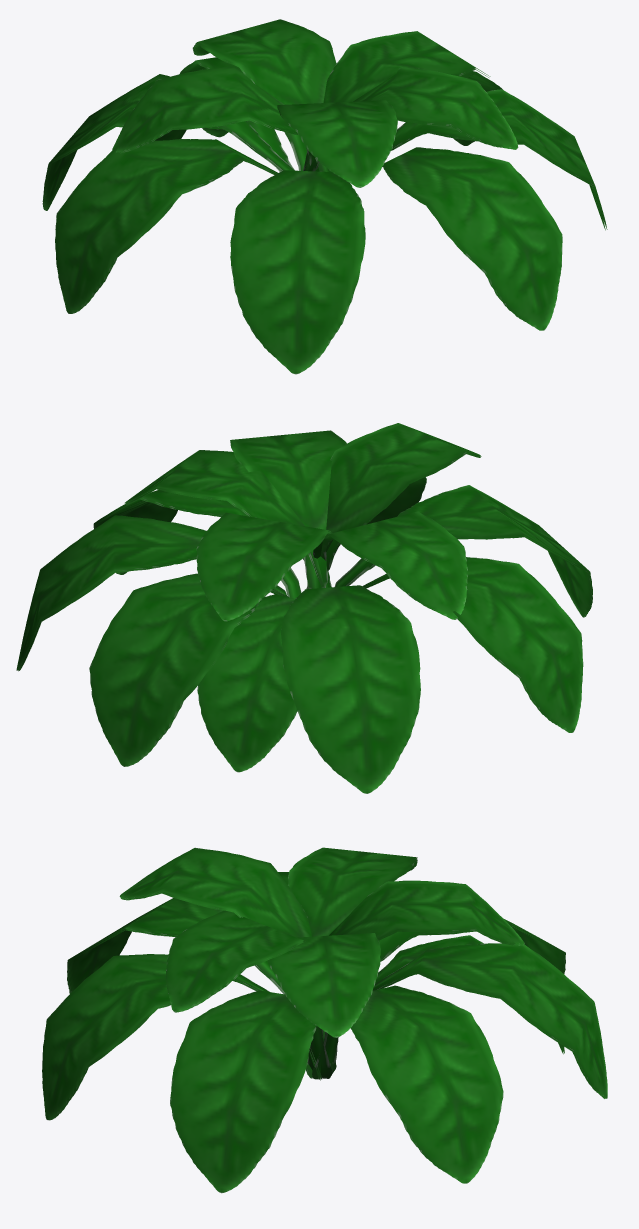
Rendered from Bush1.FBX.
The picture shows the model from 3 angles, top to bottom: view 1: azimuth 30°, elevation 25°; view 2: azimuth 150°, elevation 25°; view 3: azimuth 270°, elevation 25°; orthographic projection. The views are drawn at different scales.
Visible parts, largest first — view 1: Bush1; view 2: Bush1; view 3: Bush1.
Part boxes in pixels (x1,y1,x2,y2): Bush1: (42, 19, 607, 374); Bush1: (16, 423, 592, 793); Bush1: (42, 847, 607, 1193).
Bounding box in the file's own units: 6.62 × 2.44 × 6.74.
1 material, 1 textured.
